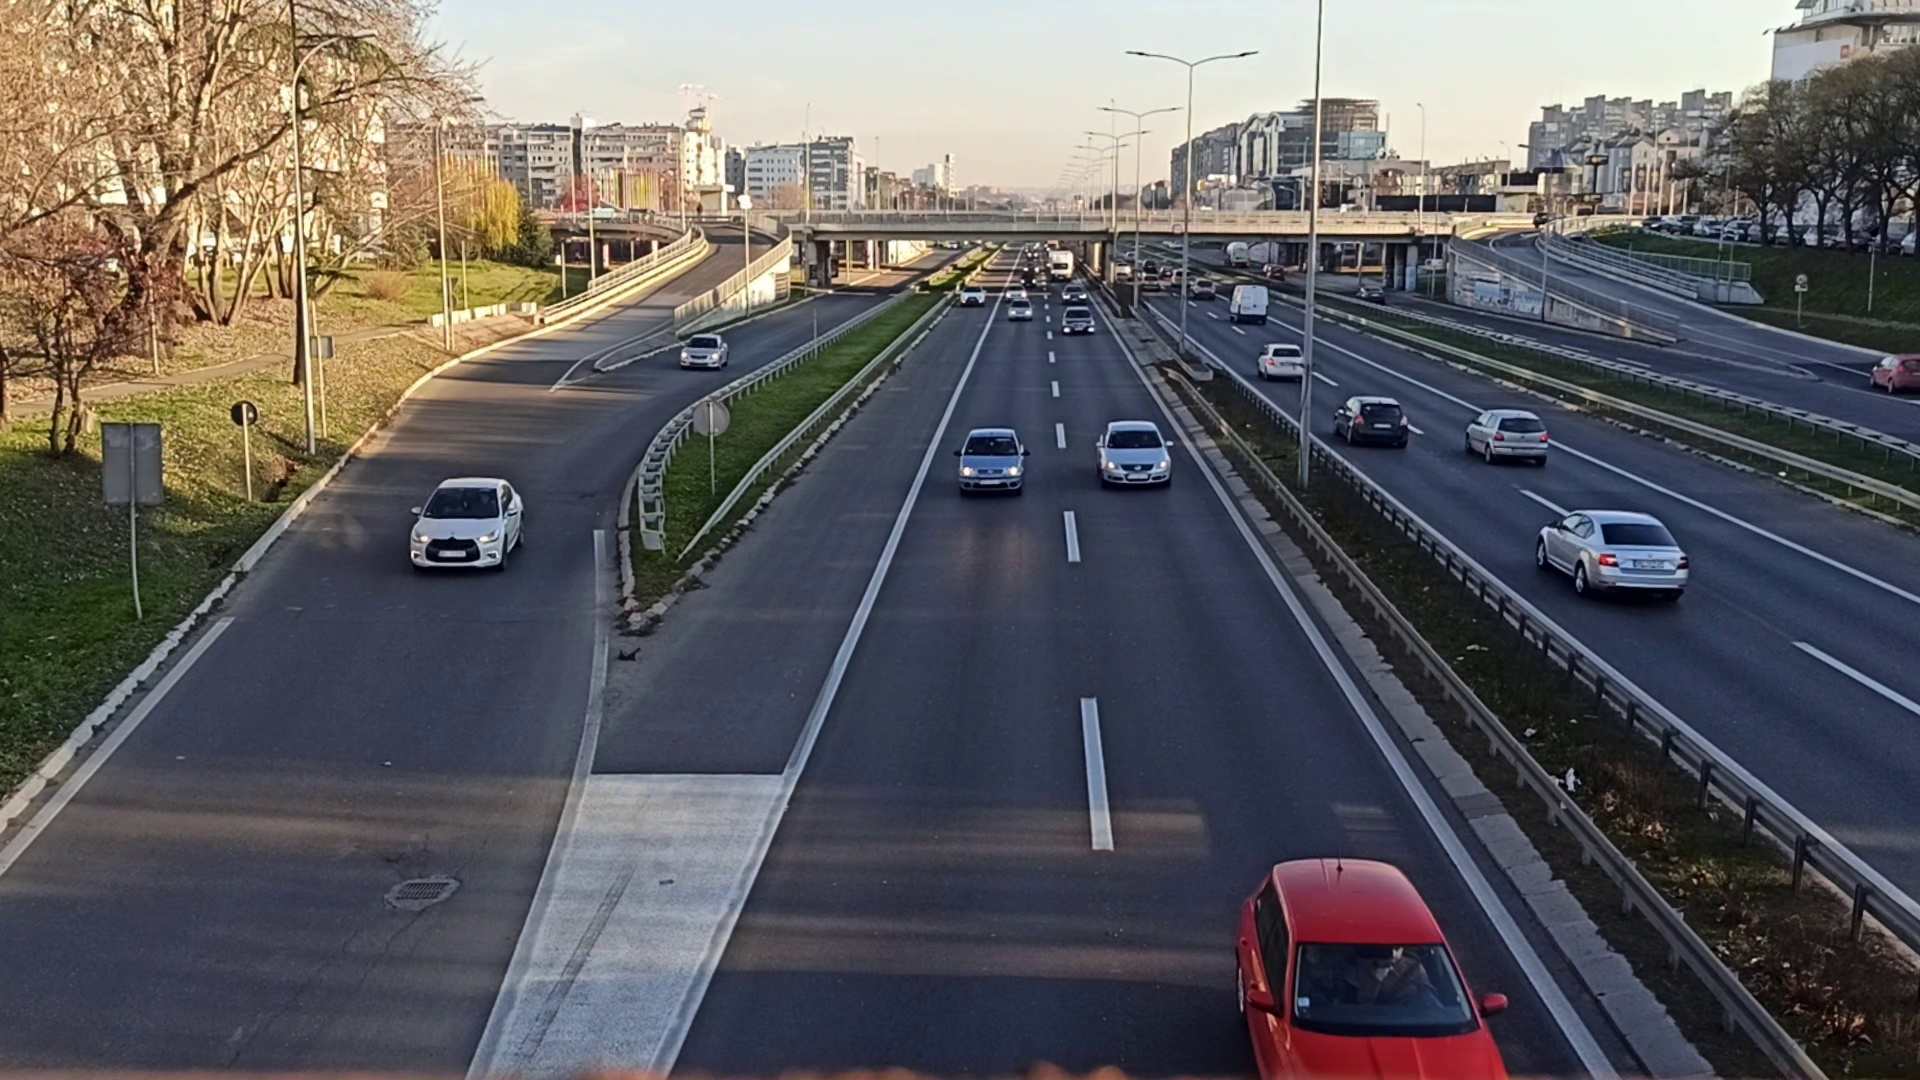car: (1232, 853, 1509, 1080), (1536, 502, 1687, 604), (407, 473, 527, 574), (1095, 417, 1171, 488), (1464, 405, 1547, 465), (1332, 392, 1410, 448), (957, 429, 1027, 491), (1257, 339, 1303, 378), (679, 330, 728, 367), (1063, 306, 1093, 338), (1063, 284, 1087, 303), (1007, 301, 1030, 316)
van: (1229, 284, 1269, 323)
